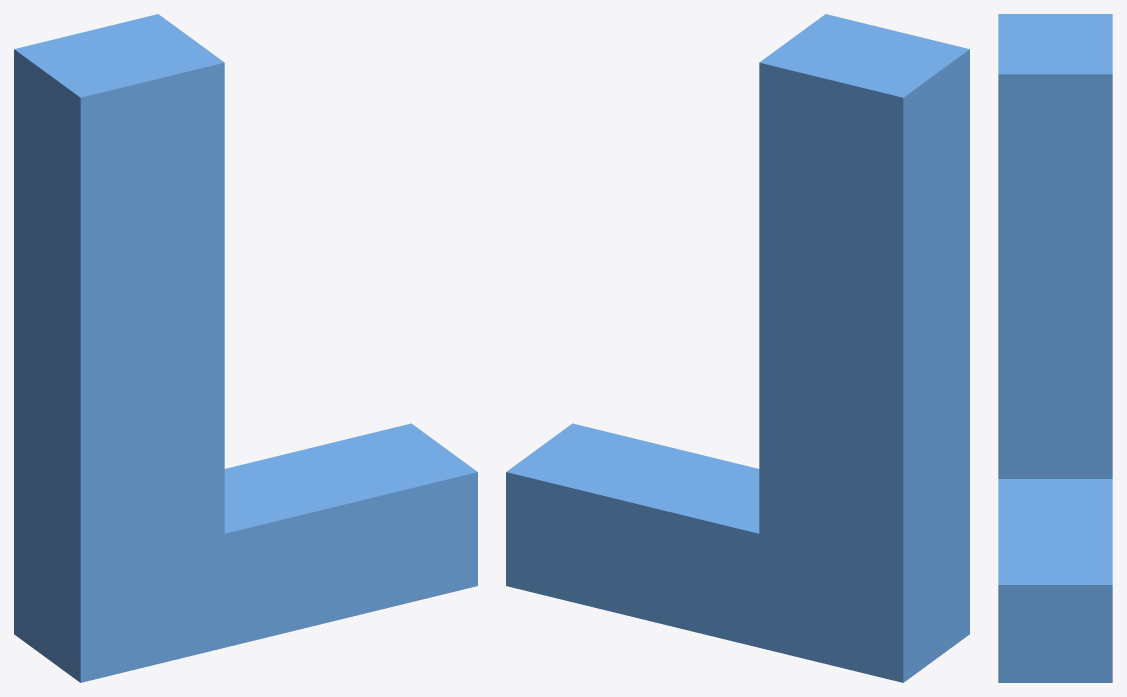
File: huruf_besar_l.glb
3 renders of one model, left to right at view 1: azimuth 30°, elevation 25°; view 2: azimuth 150°, elevation 25°; view 3: azimuth 270°, elevation 25°, orthographic. The views are drawn at different scales.
Visible parts, largest first — view 1: geometry_0; view 2: geometry_0; view 3: geometry_0.
Boxes of the visible parts, box(x1,y1,x2,y2) form: geometry_0: box(14, 14, 477, 682); geometry_0: box(506, 14, 969, 682); geometry_0: box(998, 14, 1112, 682).
Size of the model in its own units: 5.18 by 7.29 by 1.5.
